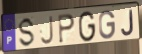G: (78, 11, 96, 44), (98, 10, 117, 41)
J: (40, 15, 55, 46), (121, 9, 135, 37)
P: (57, 13, 76, 45)
S: (18, 16, 36, 49)
